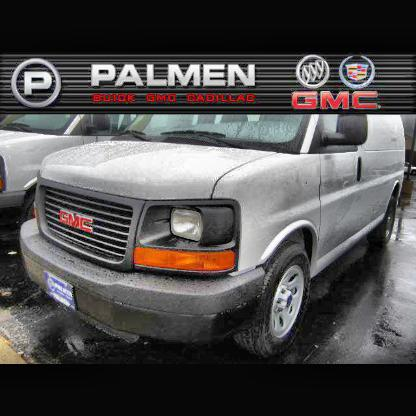GMC Savana Van 2012: (20, 114, 410, 365)
